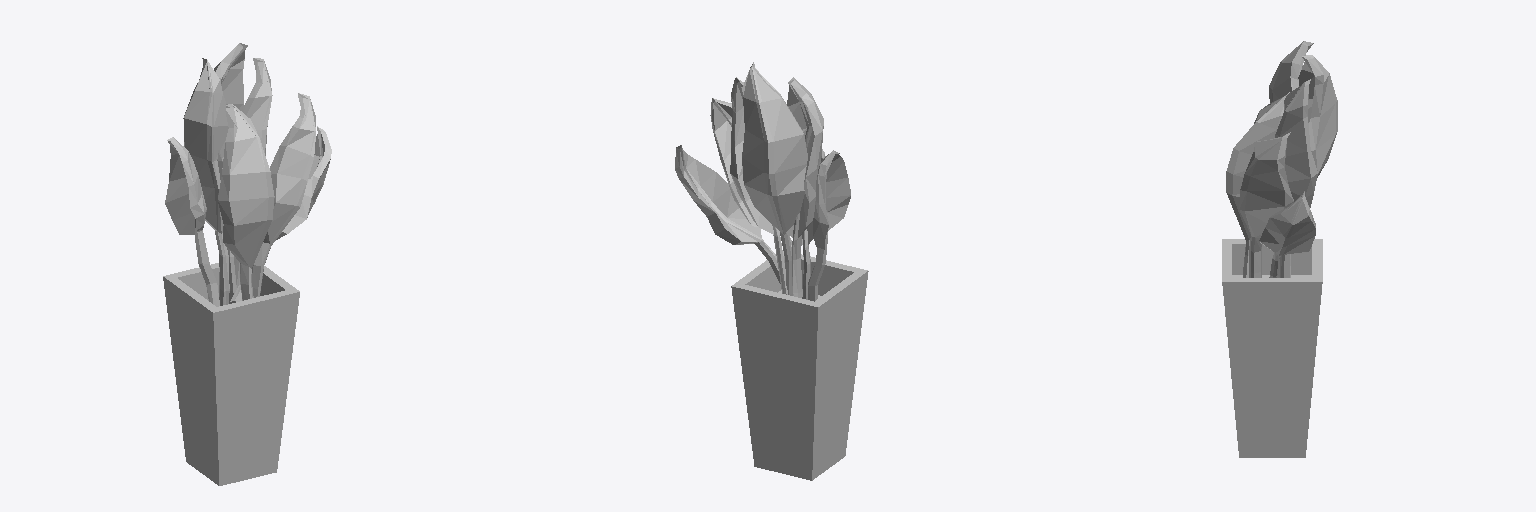
Rendered from plantPot.obj.
3 renders of one model, left to right at view 1: azimuth 30°, elevation 25°; view 2: azimuth 150°, elevation 25°; view 3: azimuth 270°, elevation 25°, orthographic.
Parts seen in each view (by area): view 1: plantPot; view 2: plantPot; view 3: plantPot.
Boxes of the visible parts, box(x1,y1,x2,y2) form: plantPot: box(163, 43, 331, 485); plantPot: box(675, 62, 868, 480); plantPot: box(1222, 41, 1337, 457).
Bounding box in the file's own units: 0.9201 × 2.2 × 0.5723.